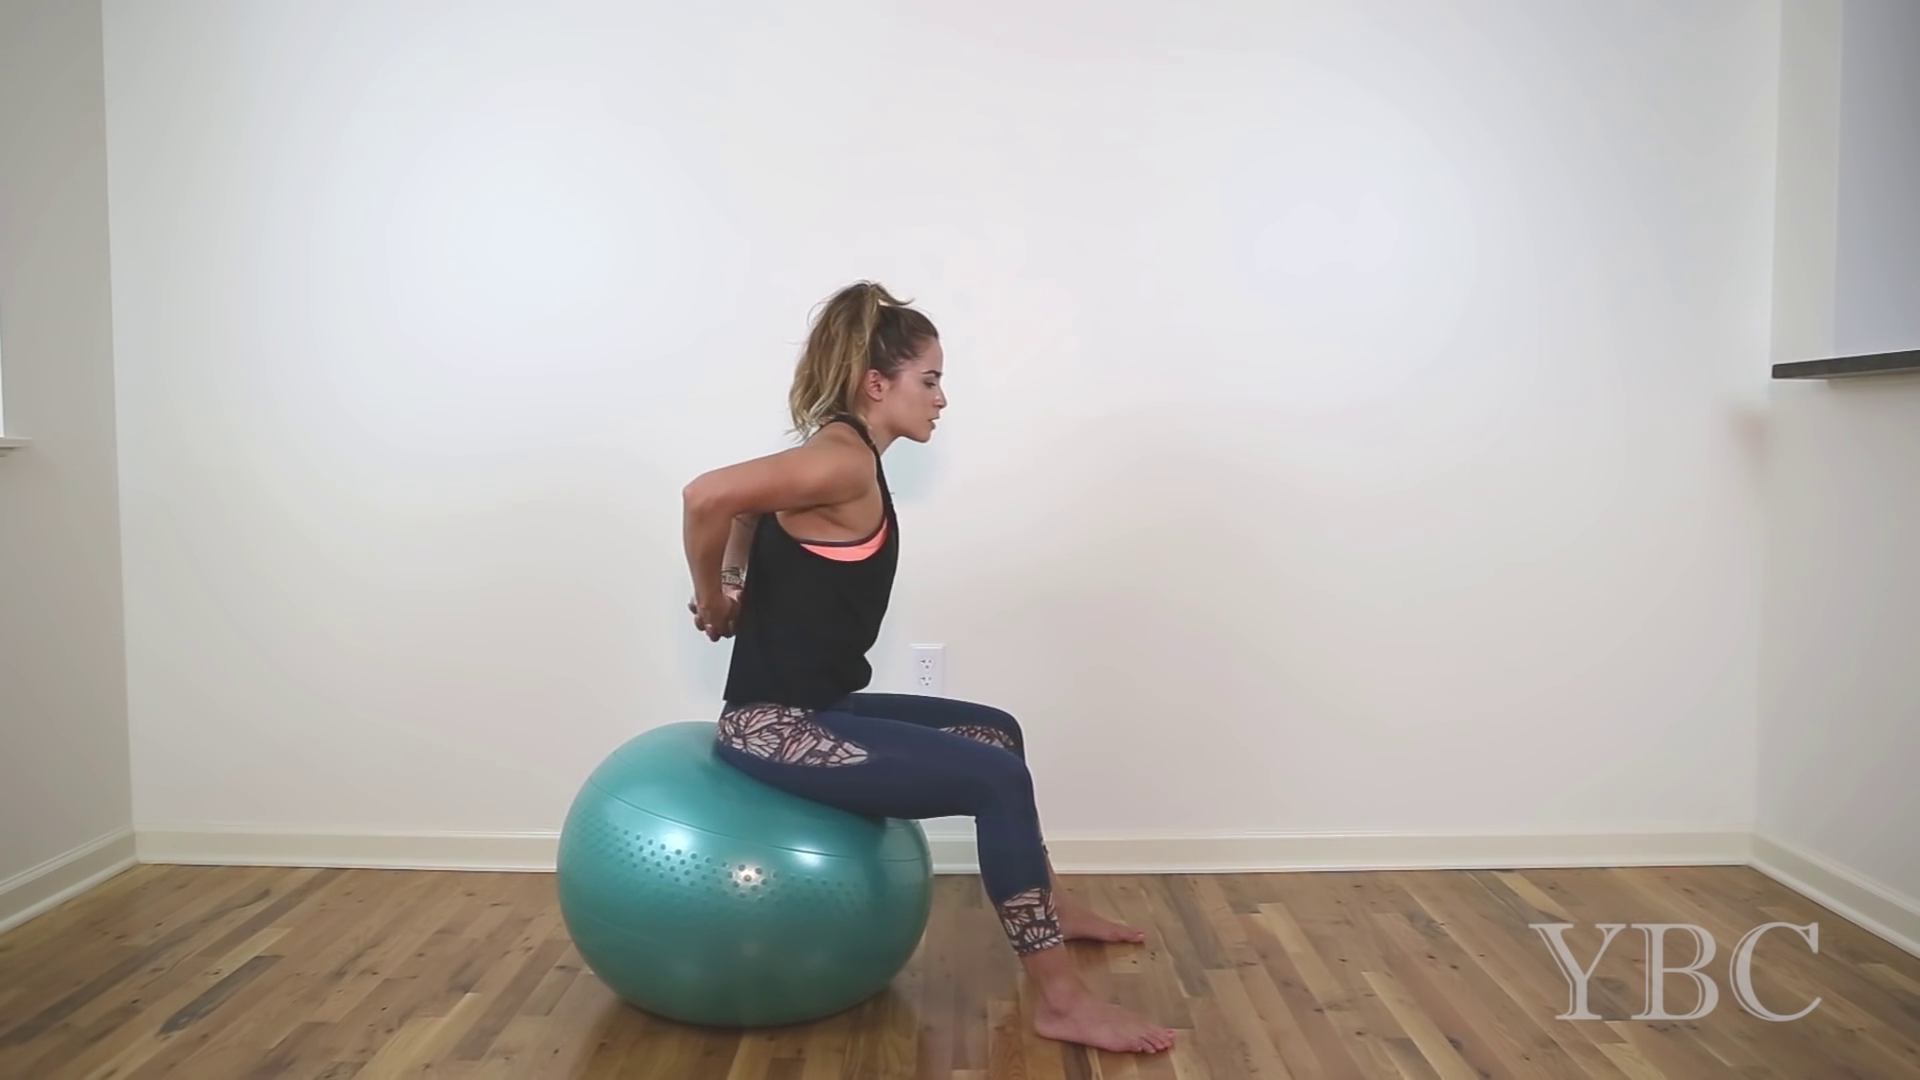yogaball: (543, 713, 953, 1048)
